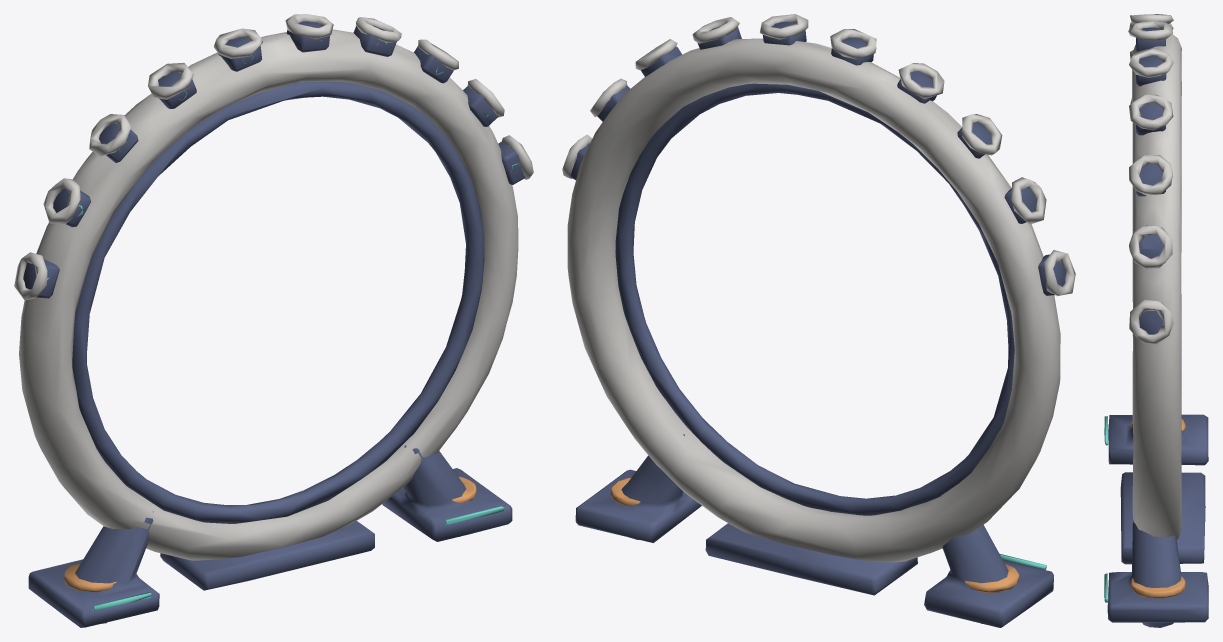
The model's file is portal.glb.
3 views of the same model, side by side, from view 1: azimuth 30°, elevation 25°; view 2: azimuth 150°, elevation 25°; view 3: azimuth 270°, elevation 25° (orthographic). The views are drawn at different scales.
Visible parts, largest first — view 1: portal, portal_glow; view 2: portal; view 3: portal, portal_glow.
Part boxes in pixels (x1,y1,x2,y2): portal: (14,14,533,627); portal_glow: (47,40,519,610); portal: (562,14,1075,627); portal: (1107,14,1208,627); portal_glow: (1104,416,1108,602).
Size of the model in its own units: 5.27 by 5.52 by 1.03.
